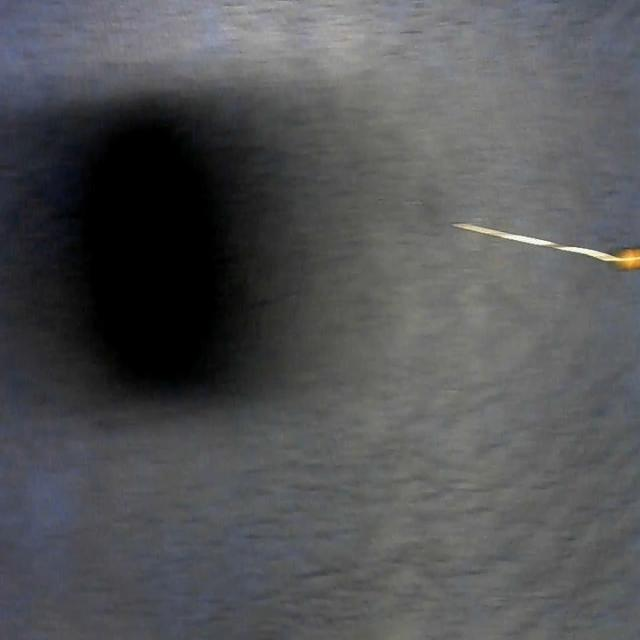resistor: (454, 219, 640, 270)
